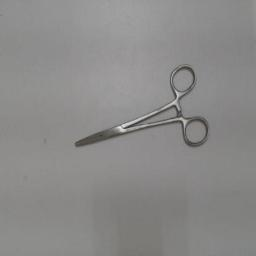Mayo Needle Holder: (66, 60, 214, 154)
